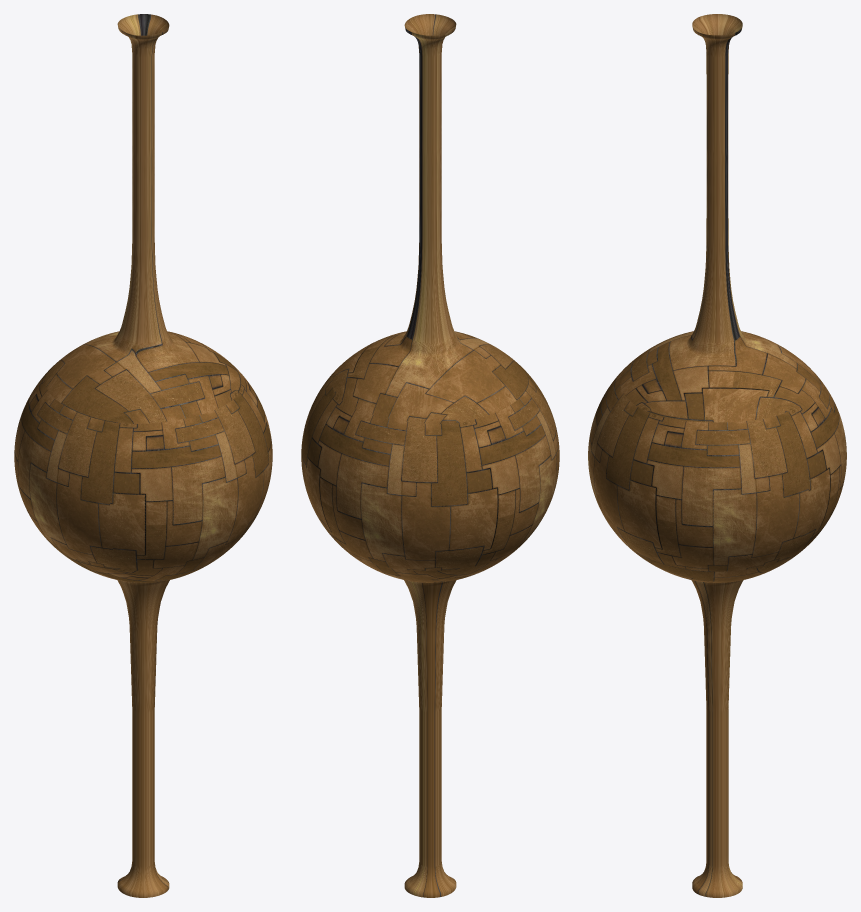
Rendered from tunnel-transformed.glb.
3 renders of one model, left to right at view 1: azimuth 30°, elevation 25°; view 2: azimuth 150°, elevation 25°; view 3: azimuth 270°, elevation 25°, orthographic.
Visible parts, largest first — view 1: CubeStyle; view 2: CubeStyle; view 3: CubeStyle.
Boxes of the visible parts, bbox=[...] form: CubeStyle: bbox=[14, 14, 272, 897]; CubeStyle: bbox=[301, 14, 559, 897]; CubeStyle: bbox=[588, 14, 846, 897].
Size of the model in its own units: 2.09 by 7.7 by 2.09.
Materials: 1 (1 with a texture image).
